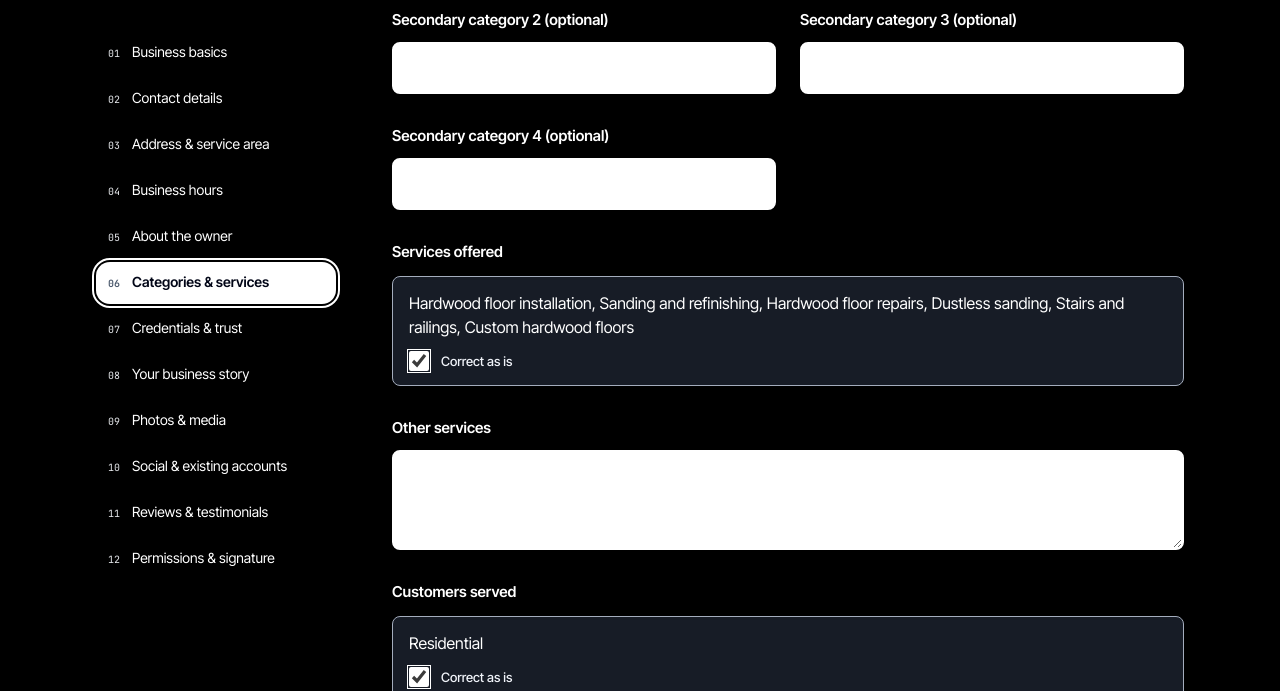
intake browser draft and response handling › shows Noble’s compact layout, tailored services, and separate draft
This screenshot has width=1280, height=691.
Earlier steps of the test are not shown.
(page scrolled)
Click the checkbox named "Services offered: correct as is". click: (419, 361)
box: x1=409 y1=351 x2=429 y2=371
(page scrolled)
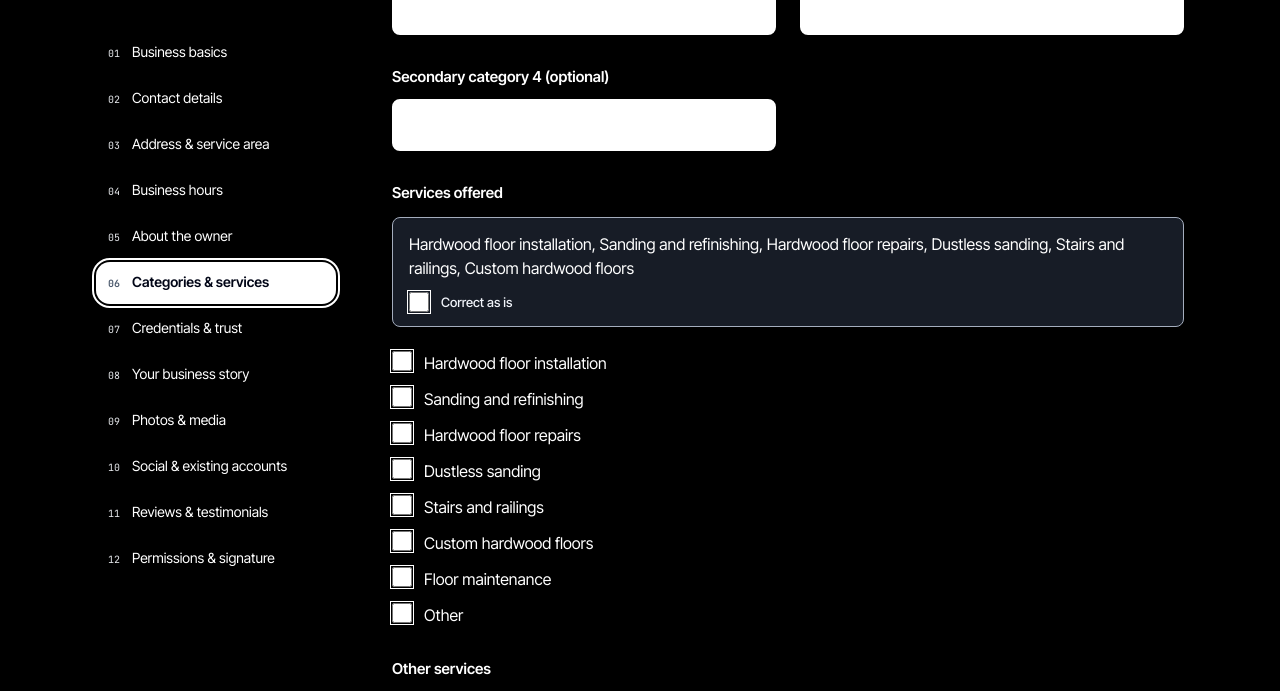
Expected: the checkbox labelled "Hardwood floor installation" is shown, x1=392 y1=351 x2=412 y2=371
